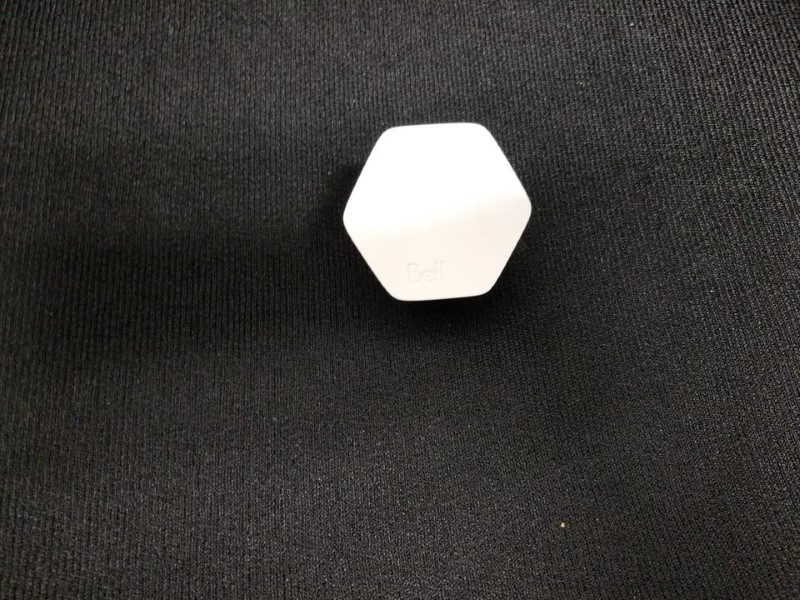pod: (337, 119, 538, 305)
